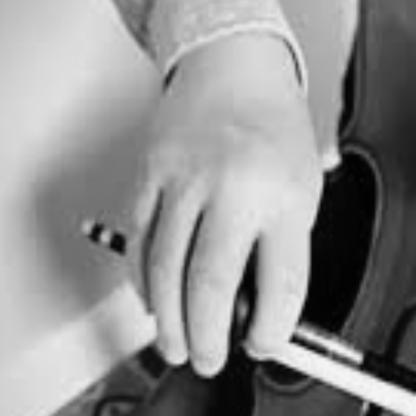good: (106, 134, 336, 375)
